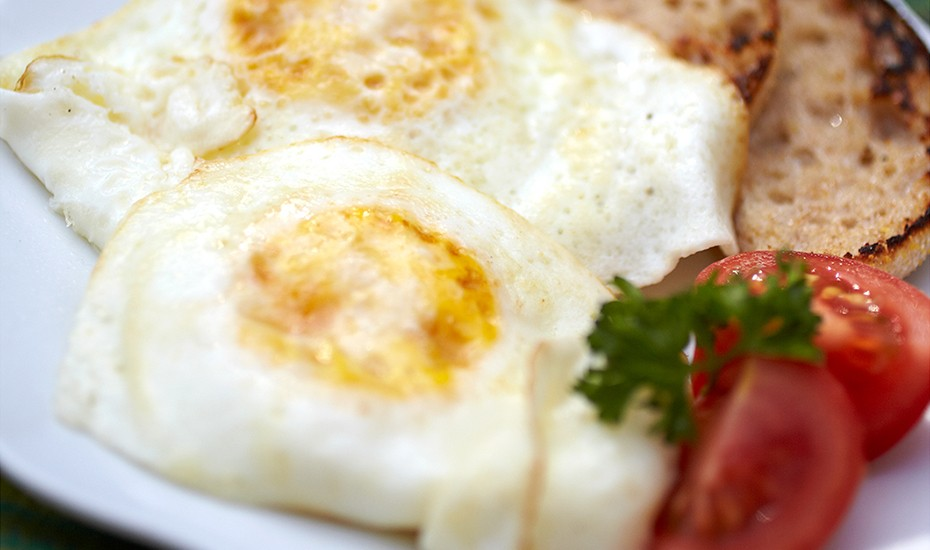fried egg: (155, 158, 586, 512), (107, 3, 608, 212)
slice of bread: (724, 4, 929, 258)
